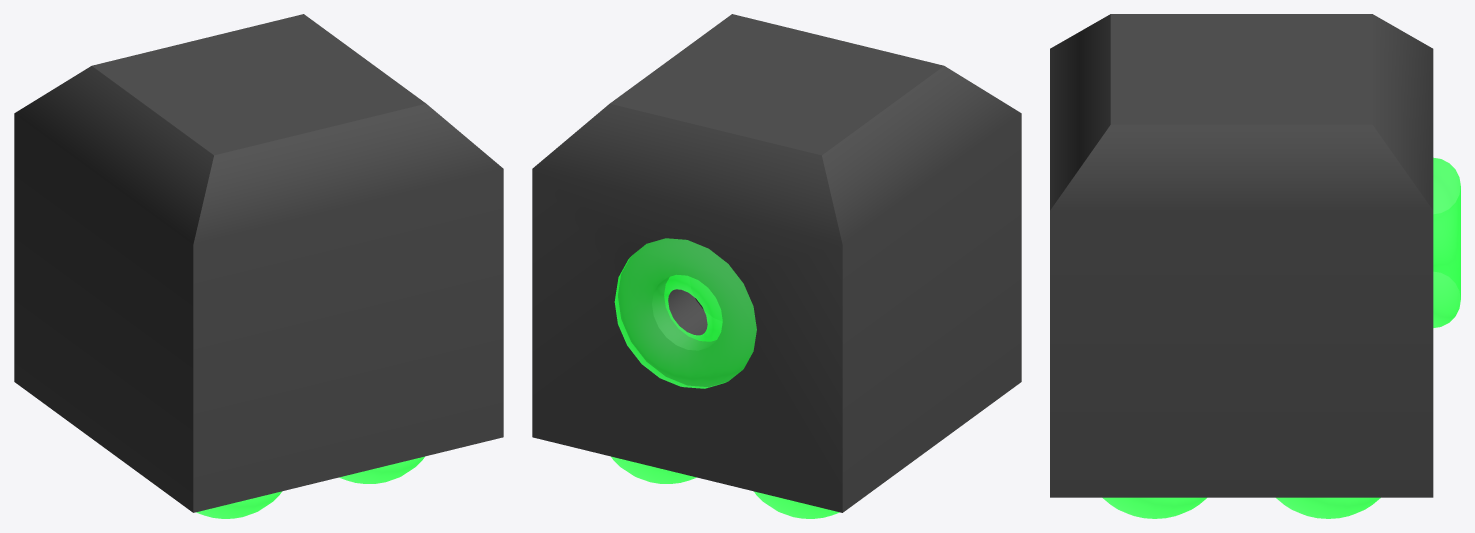
File: robot.fbx
The picture shows the model from 3 angles, left to right: view 1: azimuth 30°, elevation 25°; view 2: azimuth 150°, elevation 25°; view 3: azimuth 270°, elevation 25°; orthographic projection. The views are drawn at different scales.
Parts seen in each view (by area): view 1: robot; view 2: robot; view 3: robot.
Boxes of the visible parts, x1,y1,x2,y2 form: robot: [14, 14, 503, 518]; robot: [532, 14, 1021, 518]; robot: [1050, 14, 1460, 518].
Size of the model in its own units: 4.03 by 4.72 by 4.32.
